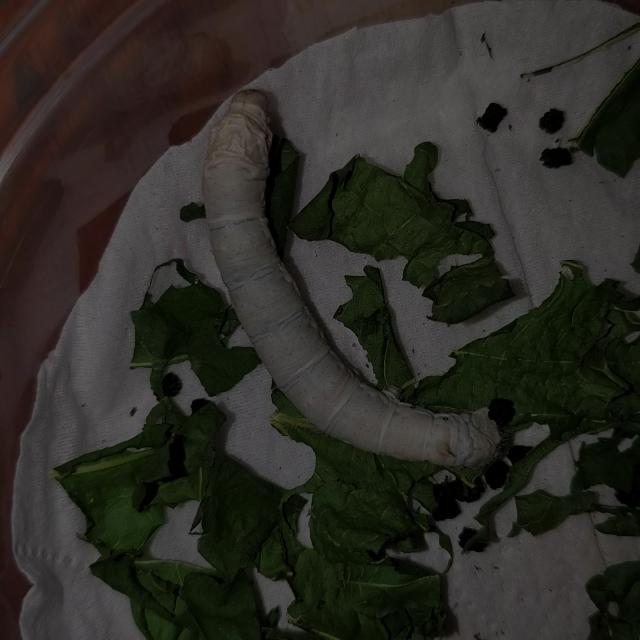Healthy: (190, 77, 508, 482)
